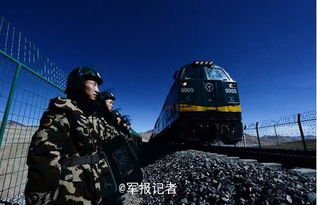10+: (22, 60, 163, 205)
